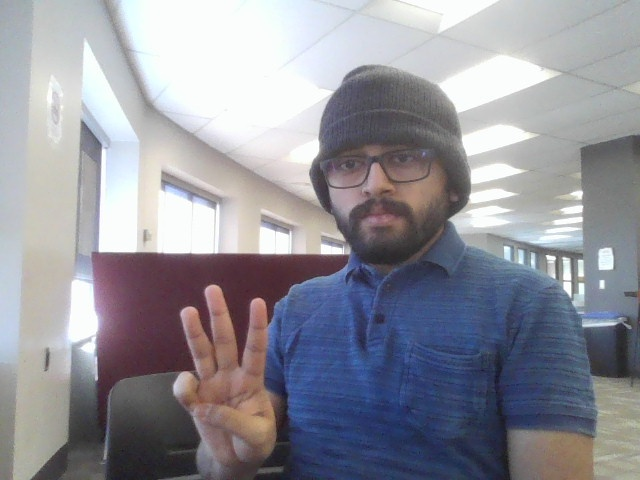start: (160, 277, 283, 480)
